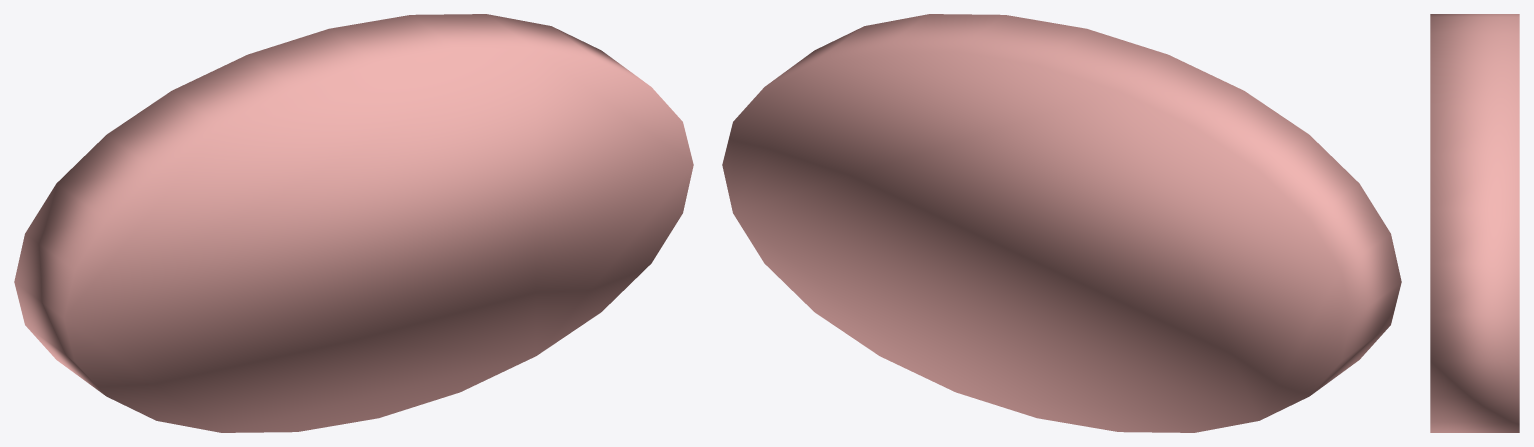
Rendered from shape-oval-pink.glb.
3 views of the same model, side by side, from view 1: azimuth 30°, elevation 25°; view 2: azimuth 150°, elevation 25°; view 3: azimuth 270°, elevation 25° (orthographic). The views are drawn at different scales.
Parts seen in each view (by area): view 1: solid oval; view 2: solid oval; view 3: solid oval.
Boxes of the visible parts, bbox=[...] form: solid oval: bbox=[14, 14, 693, 432]; solid oval: bbox=[722, 14, 1401, 432]; solid oval: bbox=[1430, 14, 1519, 432].
Bounding box in the file's own units: 1.82 × 0.975 × 0.25.
